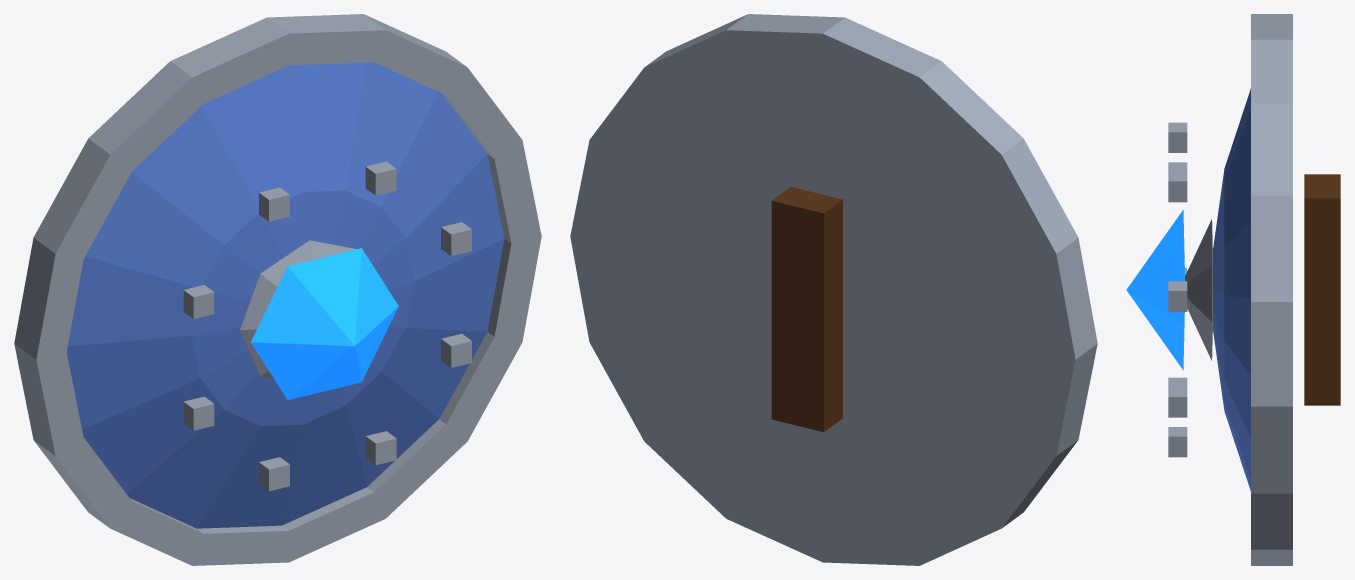
File: shield_buckler_rare.glb
3 views of the same model, side by side, from view 1: azimuth 30°, elevation 25°; view 2: azimuth 150°, elevation 25°; view 3: azimuth 270°, elevation 25° (orthographic). The views are drawn at different scales.
Parts seen in each view (by area): view 1: shield_buckler_rare_export; view 2: shield_buckler_rare_export; view 3: shield_buckler_rare_export.
Boxes of the visible parts, x1,y1,x2,y2 form: shield_buckler_rare_export: [14, 14, 541, 565]; shield_buckler_rare_export: [570, 14, 1097, 565]; shield_buckler_rare_export: [1126, 14, 1340, 565].
Bounding box in the file's own units: 58 × 58 × 22.5.
